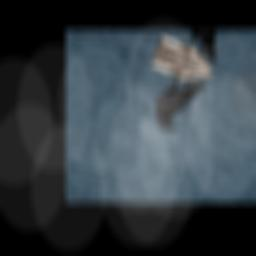Crow: (147, 67, 209, 139)
